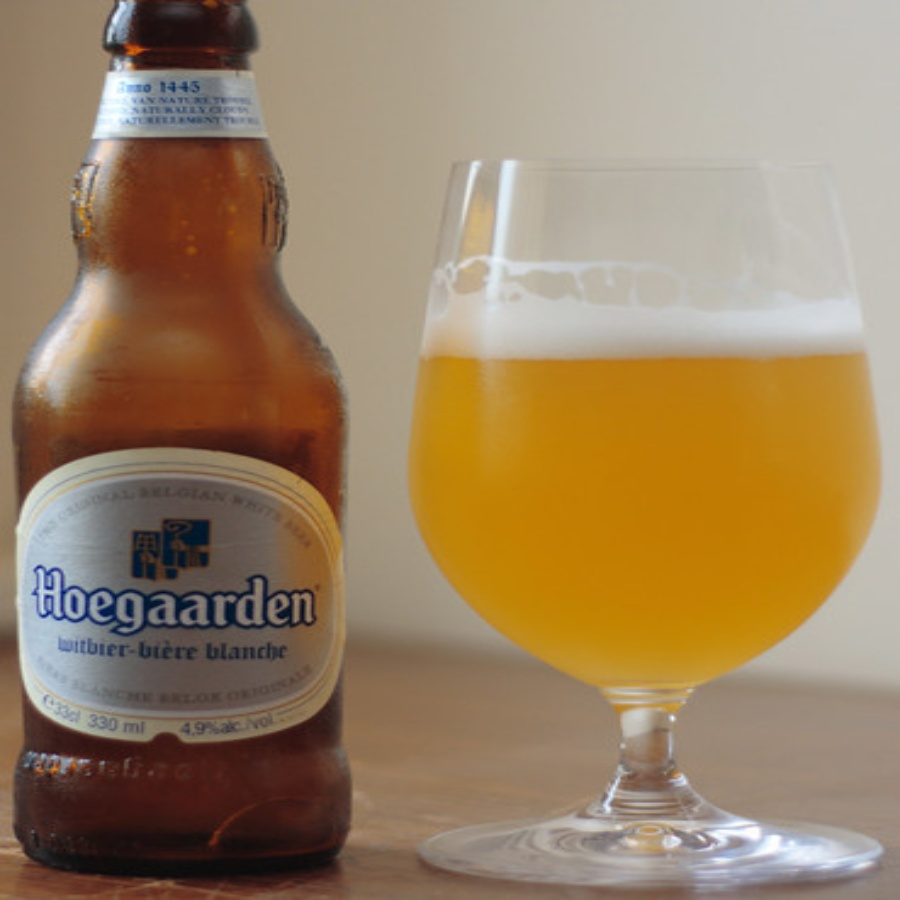beer: (26, 3, 339, 852)
